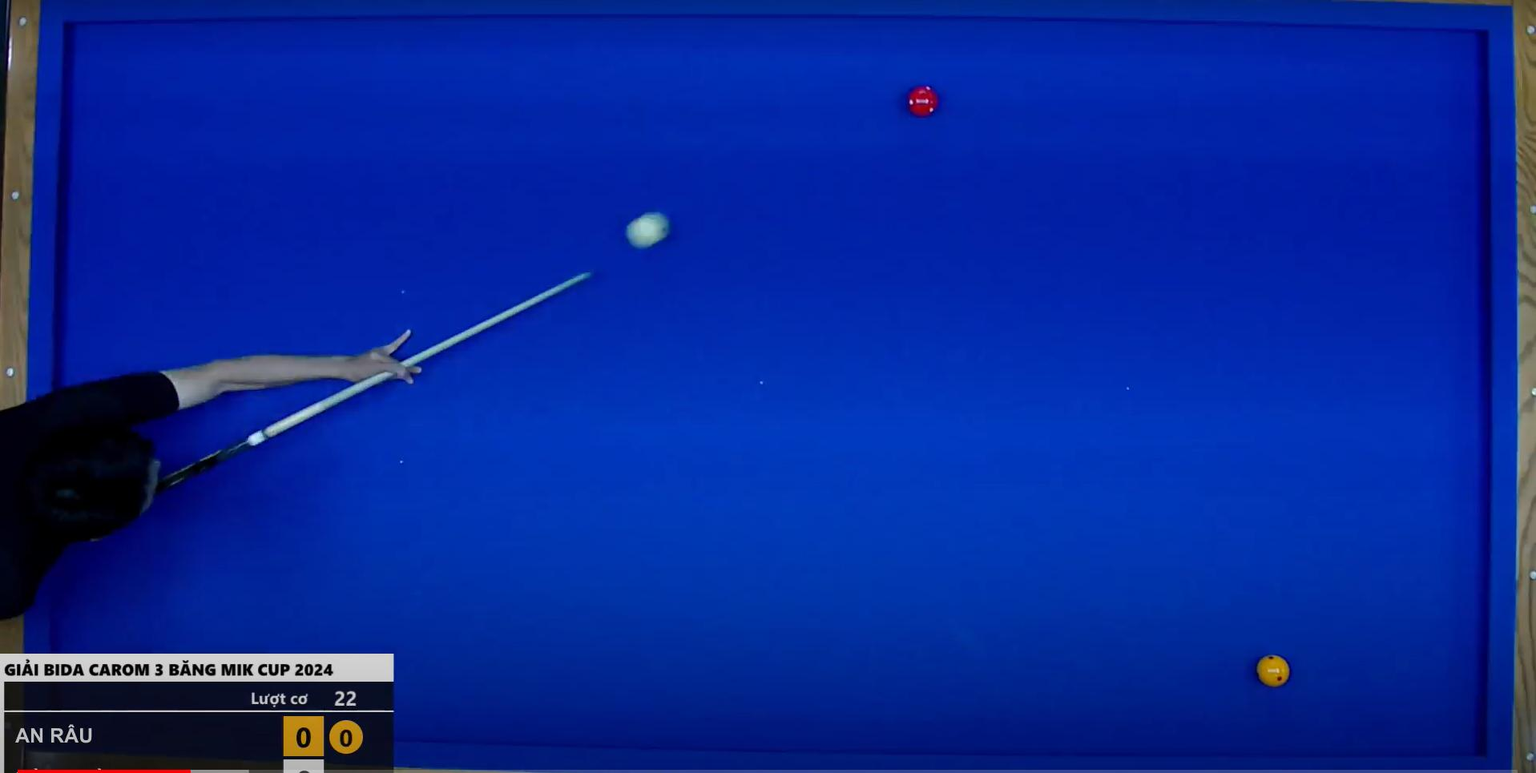red ball: (900, 81, 947, 125)
white ball: (617, 199, 683, 259)
yellow ball: (1248, 651, 1295, 694)
